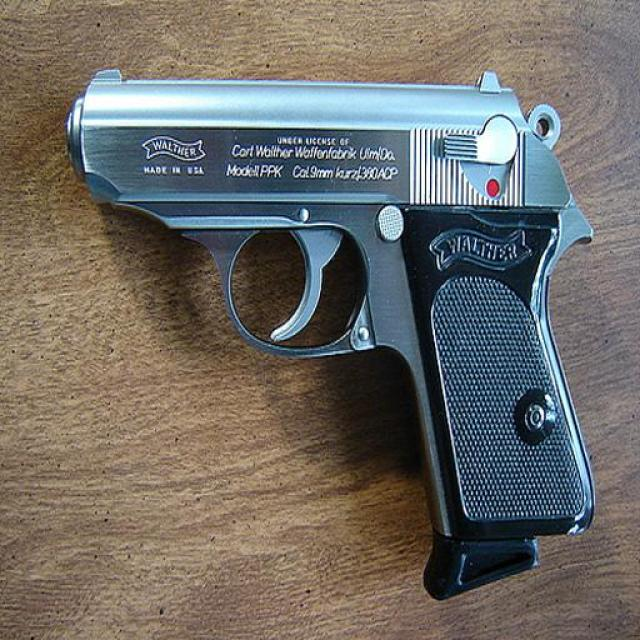pistol: (65, 63, 597, 601)
